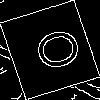O: (24, 25, 83, 77)
